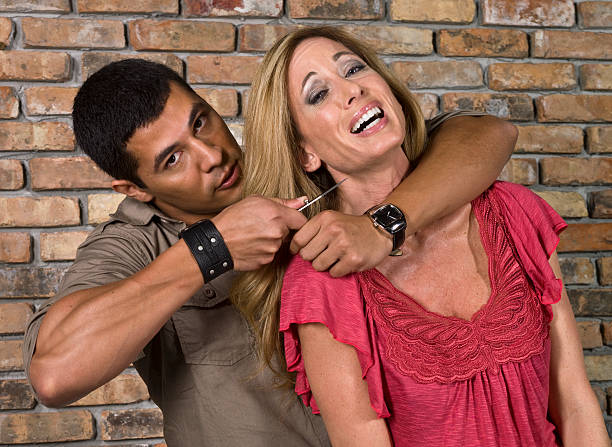13: (2, 128, 443, 444), (0, 127, 168, 446)
67: (368, 203, 407, 256)
handguns: (25, 48, 583, 442), (237, 22, 606, 441), (21, 58, 333, 441)
